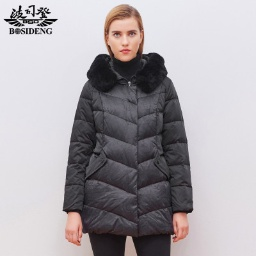face: (99, 1, 153, 69)
